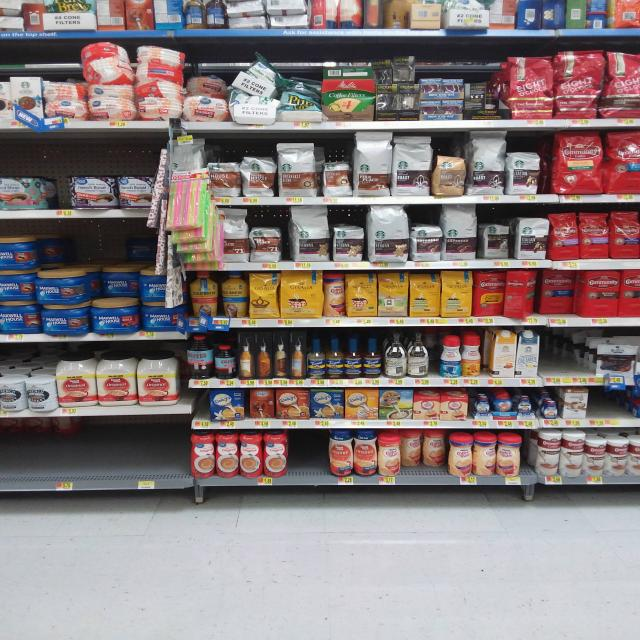void: (38, 422, 67, 494), (135, 421, 164, 491), (72, 422, 100, 493), (104, 422, 130, 494), (6, 427, 33, 493), (289, 432, 320, 486), (566, 332, 592, 390), (168, 420, 188, 489), (594, 390, 628, 430), (544, 334, 564, 386)
